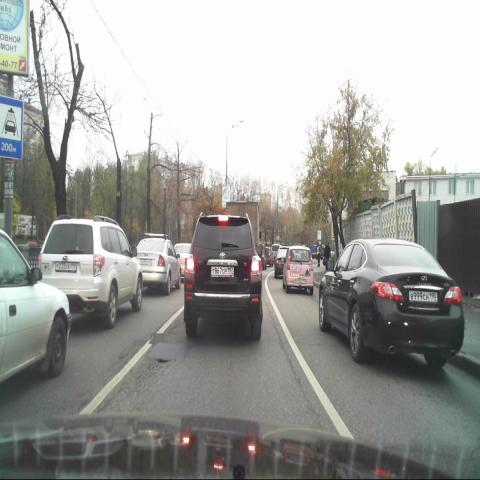7_5: (0, 96, 24, 161)
